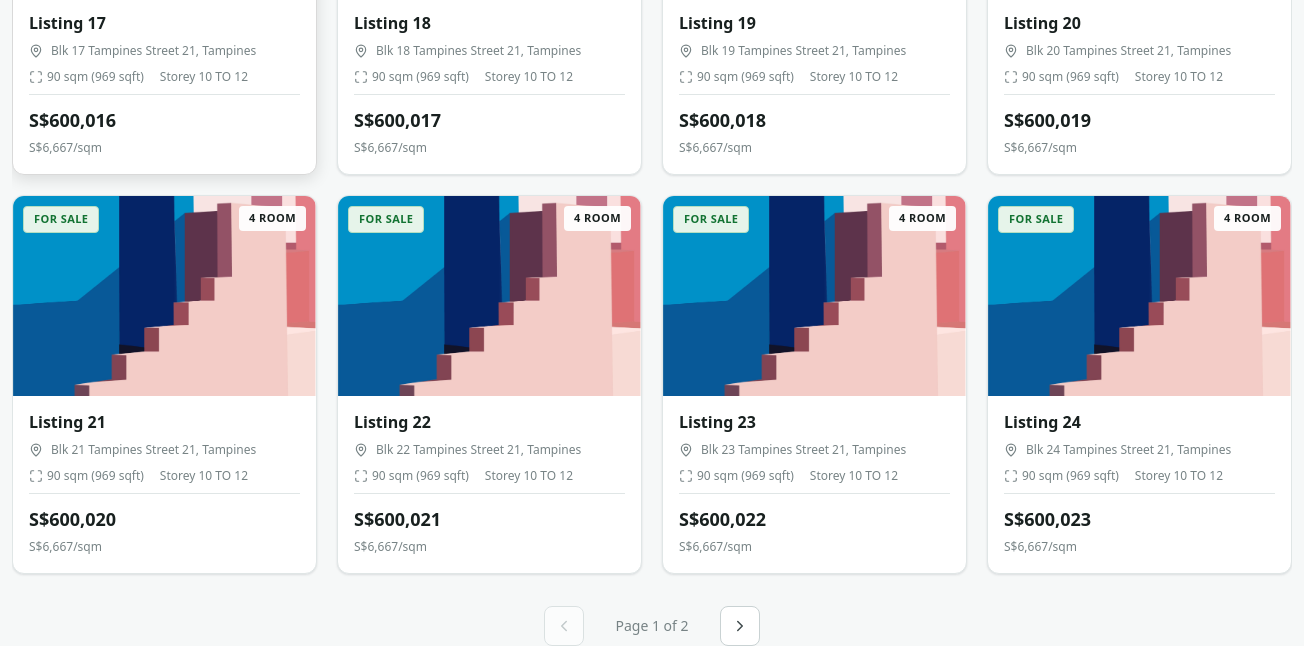
Test case: BrowsePage › mounts one page of cards at a time
(page scrolled)
Expected: the heading "Listing 24" is shown, top-left (1004, 411), bottom-right (1081, 433)
Expected: the text "Listing 25" is not shown
Click the button named "Next page" at (740, 626), box top-left (720, 606), bottom-right (760, 645)
(page scrolled)
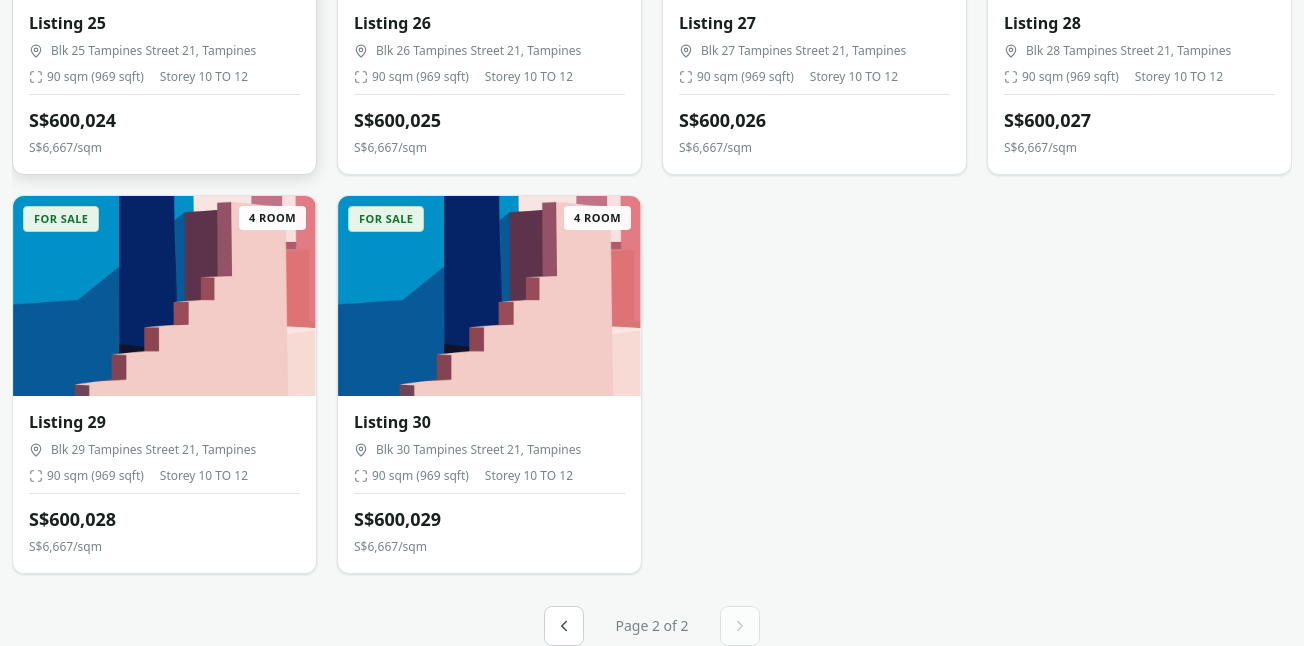
Now the heading "Listing 25" is shown, box top-left (29, 12), bottom-right (106, 34)
Now the link "Listing 1" is gone
